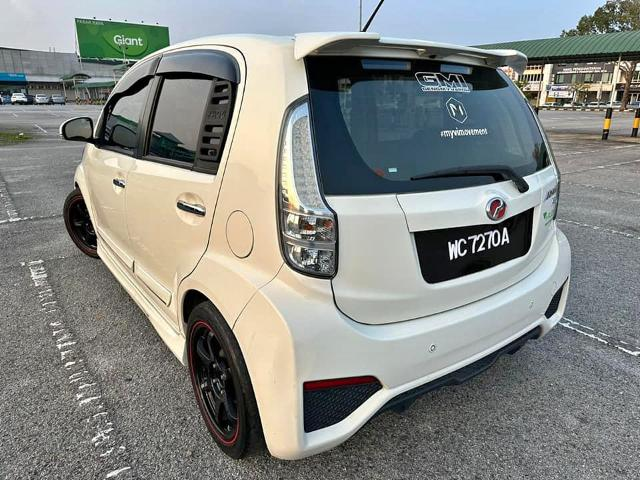License_Plate: (426, 225, 536, 268)
car: (54, 32, 575, 469)
